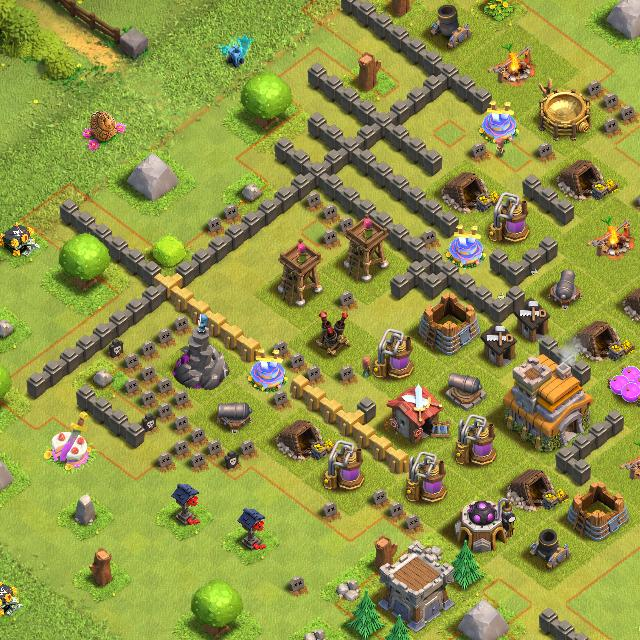Arqueira: (342, 210, 392, 285), (277, 236, 327, 308)
Canhao: (444, 371, 489, 412), (547, 268, 584, 313), (214, 398, 254, 439)
